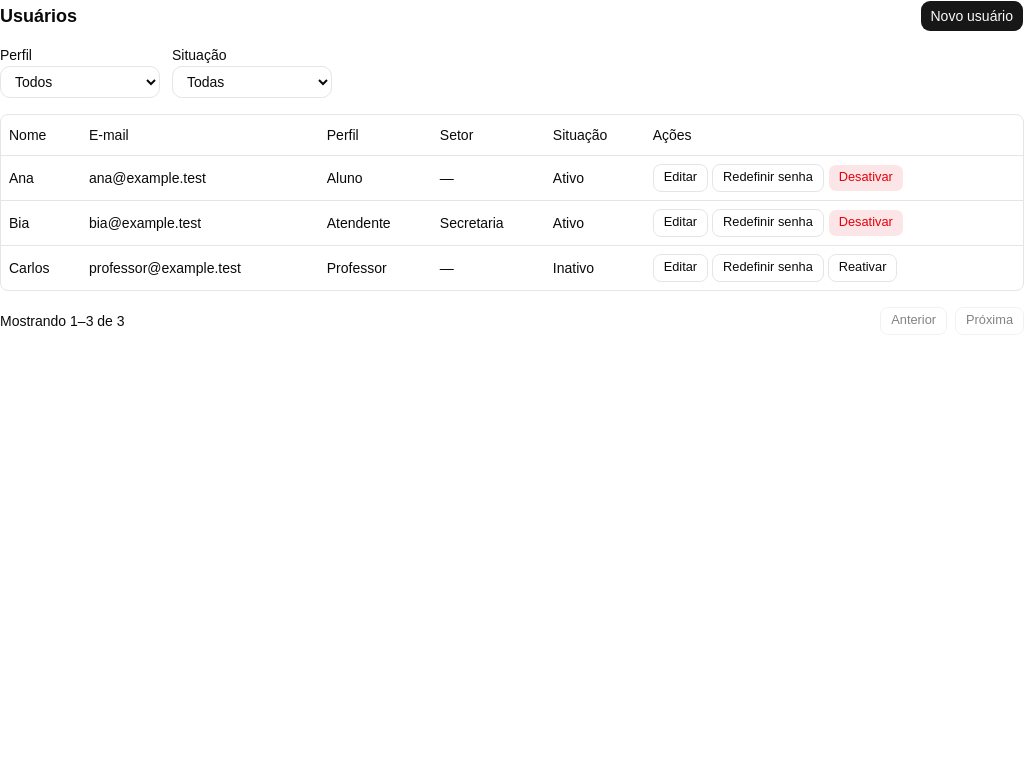
Test case: UsersTab (US4.1) › opens the edition and the password reset of a row
Check: the cell "Ana" is shown, box x1=1 y1=155 x2=81 y2=200
Click the button with aria-label "Editar Ana" at {"x": 680, "y": 178}, box x1=653 y1=164 x2=708 y2=192
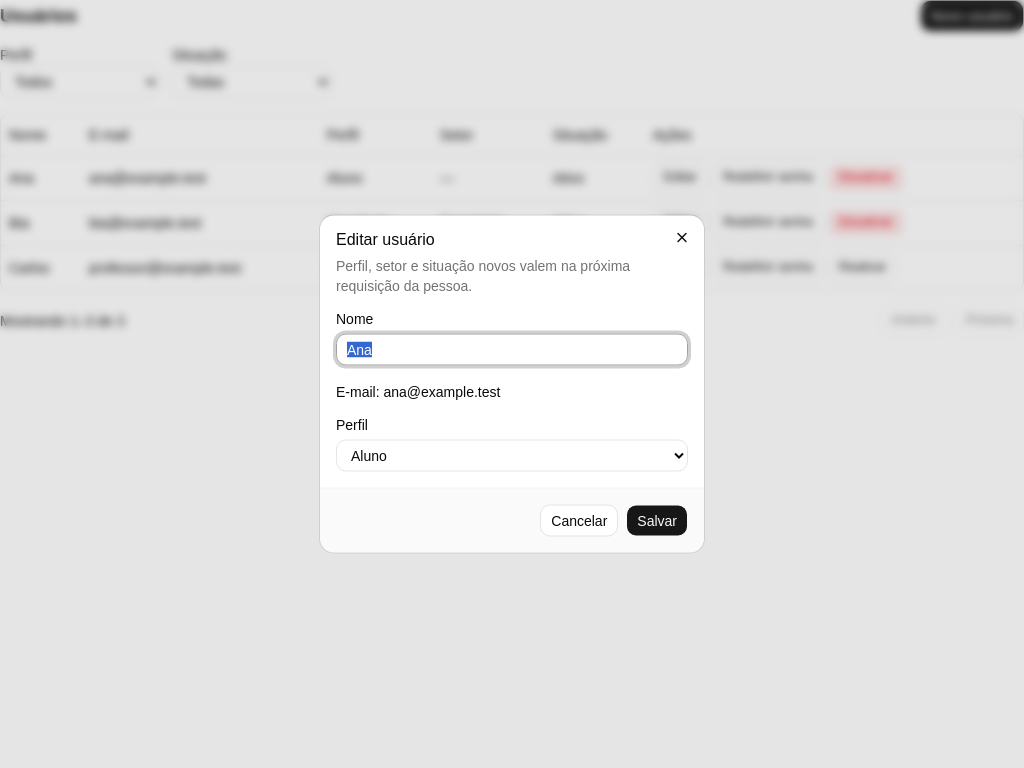
Click the button "Cancelar" at {"x": 579, "y": 520}, box x1=540 y1=504 x2=618 y2=536
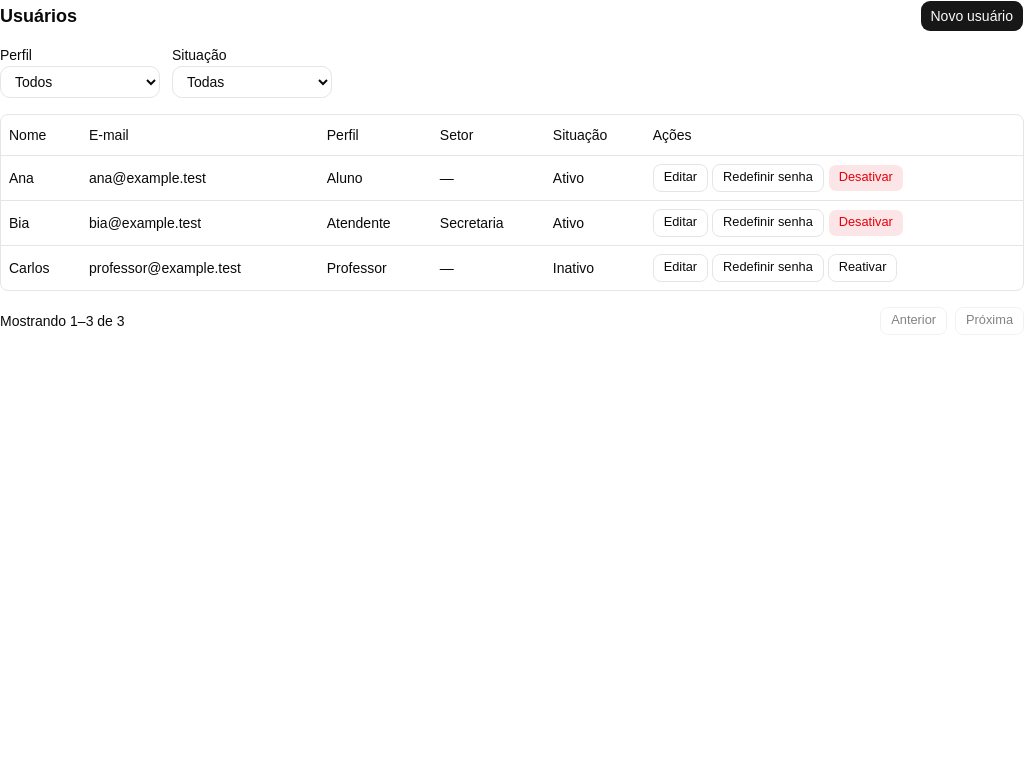
Click the button with aria-label "Redefinir senha de Ana" at {"x": 768, "y": 178}, box x1=712 y1=164 x2=824 y2=192
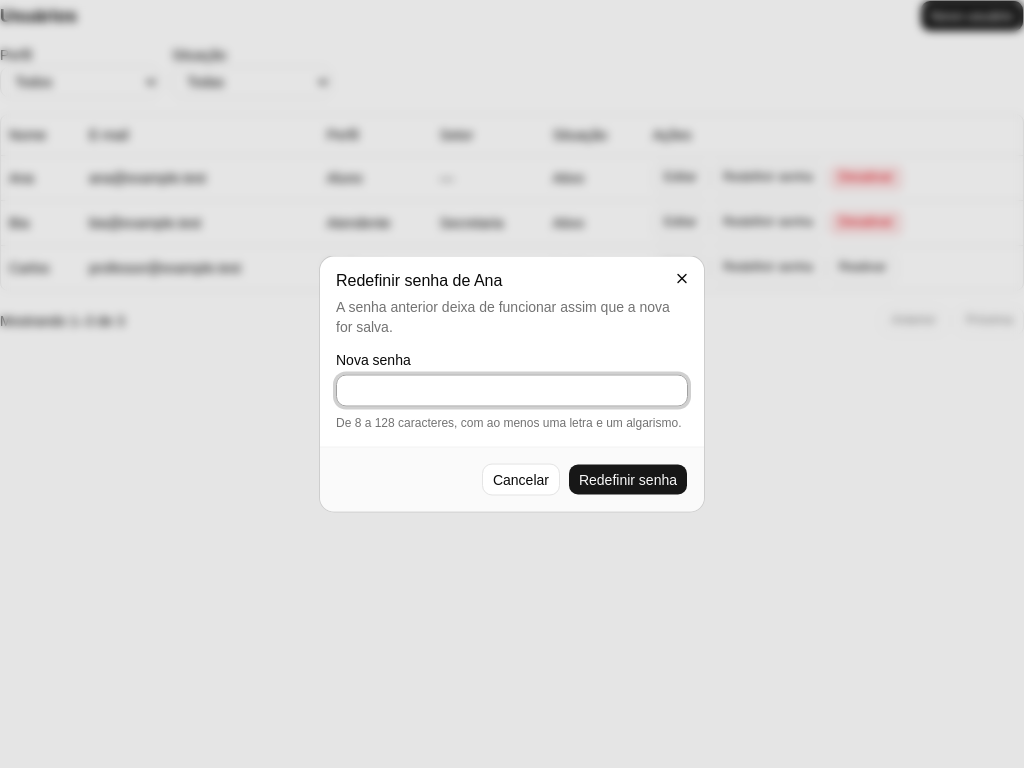
Type "NovaSenha9" into the password field labelled "Nova senha" at {"x": 512, "y": 390}, box x1=336 y1=374 x2=688 y2=406
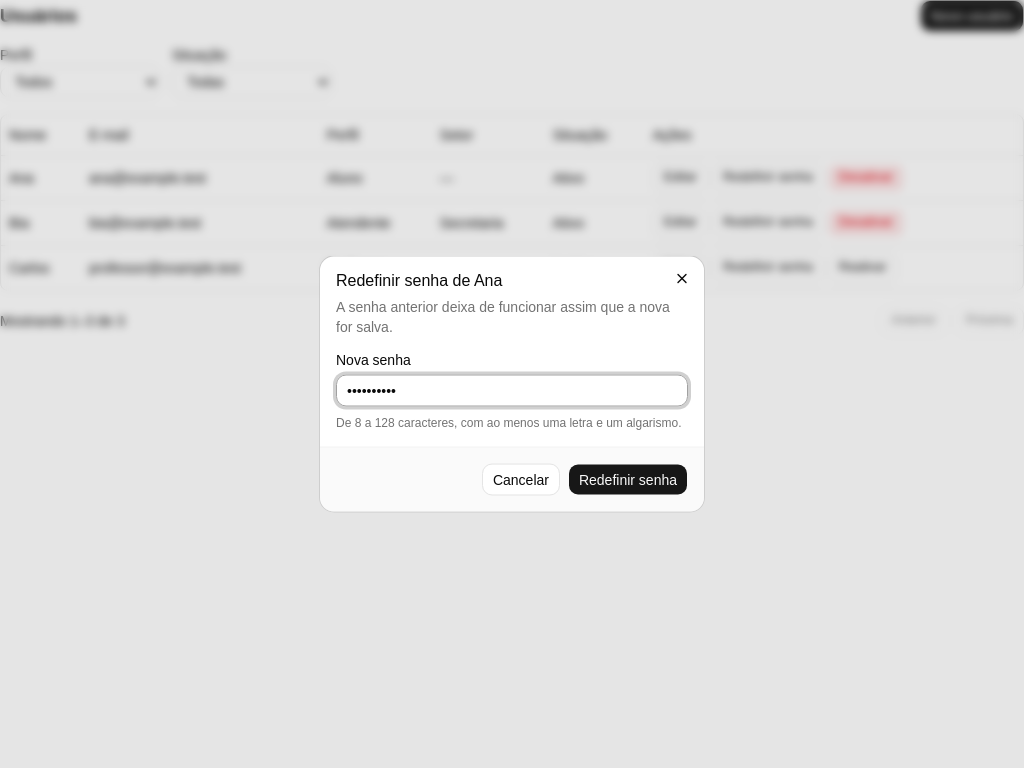
Click the button "Redefinir senha" at {"x": 628, "y": 480}, box x1=568 y1=464 x2=688 y2=496
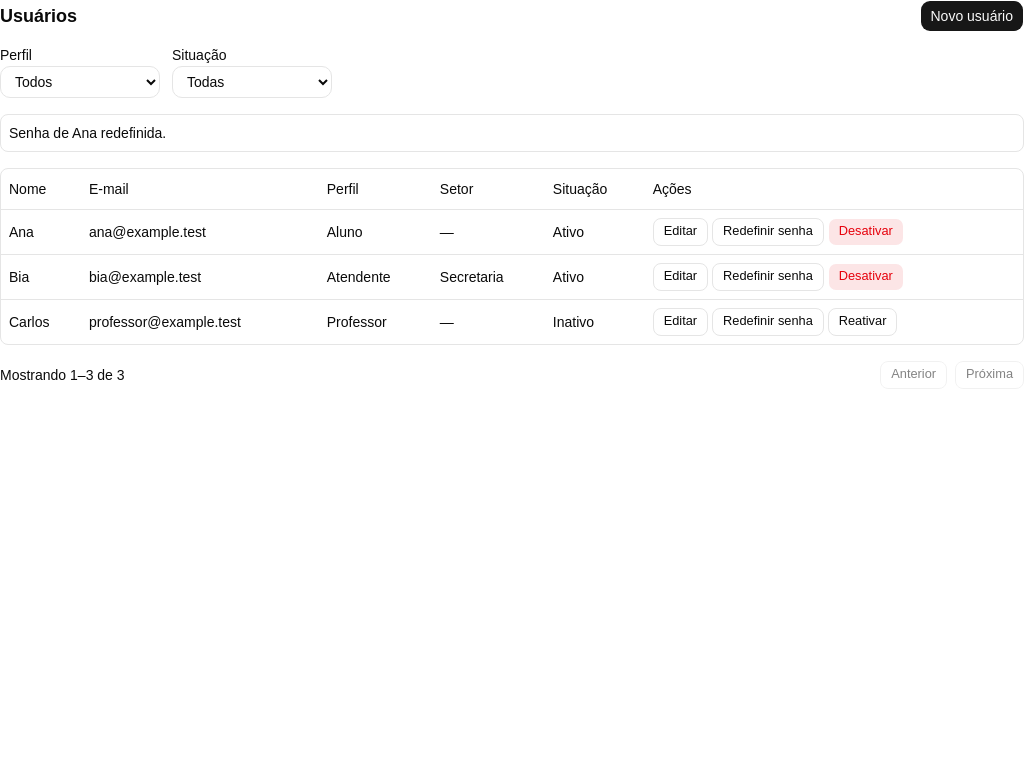
Check: the message with test id "users-tab-notice" reads "Senha de Ana redefinida.", box x1=9 y1=125 x2=166 y2=141
